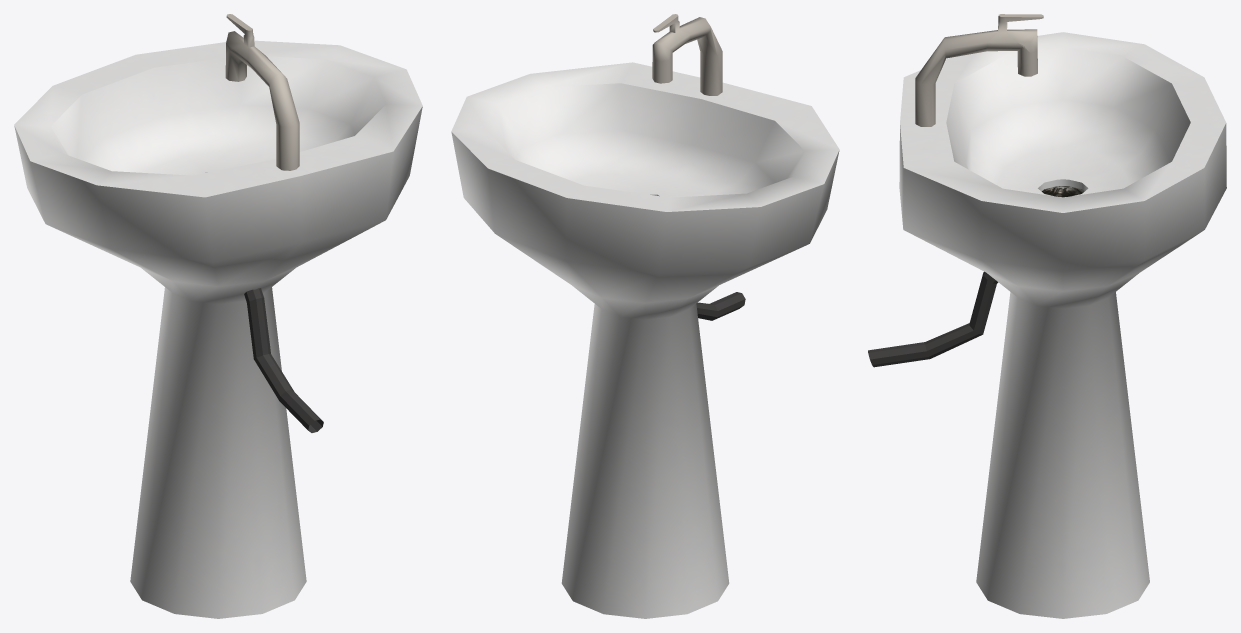
Rendered from lavamano.glb.
The picture shows the model from 3 angles, left to right: view 1: azimuth 30°, elevation 25°; view 2: azimuth 150°, elevation 25°; view 3: azimuth 270°, elevation 25°; orthographic projection. The views are drawn at different scales.
Visible parts, largest first — view 1: lavabo; view 2: lavabo; view 3: lavabo.
Part boxes in pixels (x1=…): lavabo: x1=14, y1=14, x2=422, y2=618; lavabo: x1=451, y1=14, x2=839, y2=618; lavabo: x1=868, y1=14, x2=1226, y2=618.
Size of the model in its own units: 0.9459 by 1.38 by 0.7922.
1 material, 1 textured.
